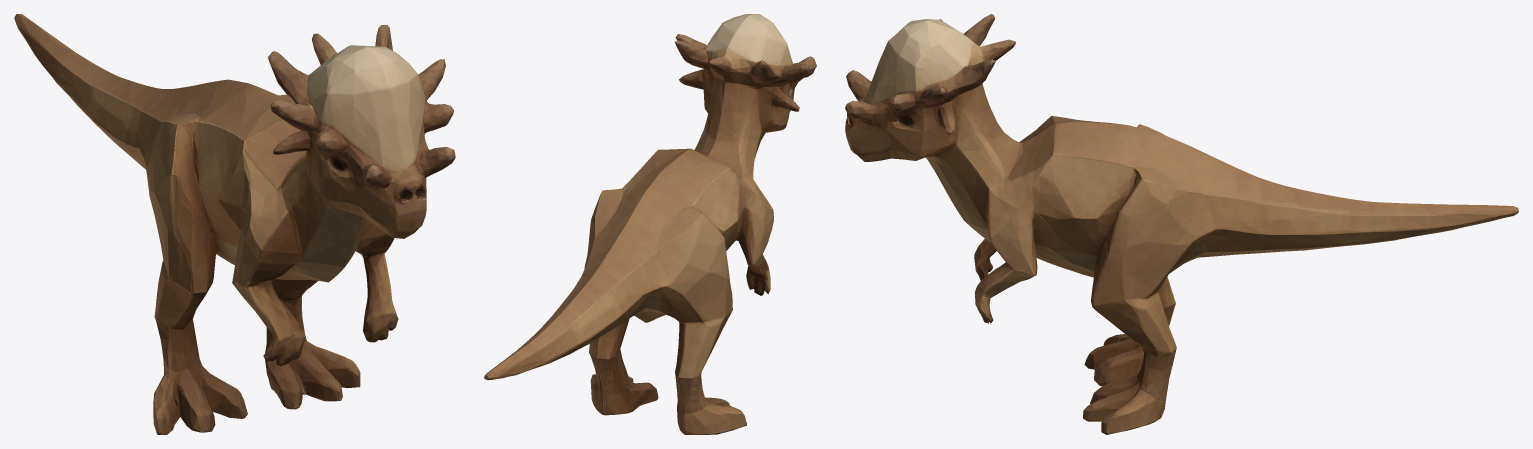
Rendered from pachycephalosaurus.glb.
3 views of the same model, side by side, from view 1: azimuth 30°, elevation 25°; view 2: azimuth 150°, elevation 25°; view 3: azimuth 270°, elevation 25° (orthographic). The views are drawn at different scales.
Parts seen in each view (by area): view 1: geometry_0; view 2: geometry_0; view 3: geometry_0.
Part boxes in pixels (left/top/right/bottom): geometry_0: left=14, top=14, right=455, bottom=434; geometry_0: left=484, top=14, right=816, bottom=434; geometry_0: left=845, top=14, right=1518, bottom=434.
Bounding box in the file's own units: 0.294 × 0.6114 × 0.9973.
Materials: 1 (1 with a texture image).
